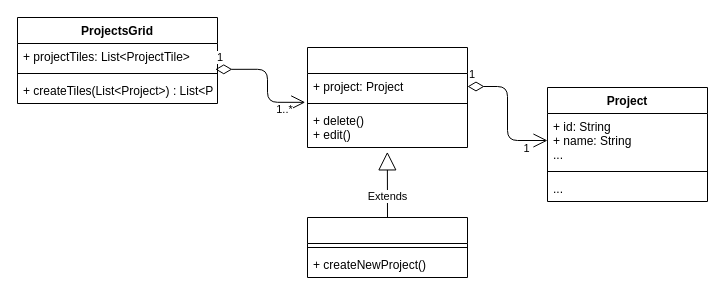
This 725x298 diagram has some shape labels left out. The box of each missing label's shape, as (x1, y1, x2, y2) in pixels:
NewProjectTile: (306, 216, 468, 278)
ProjectTile: (306, 46, 468, 148)
